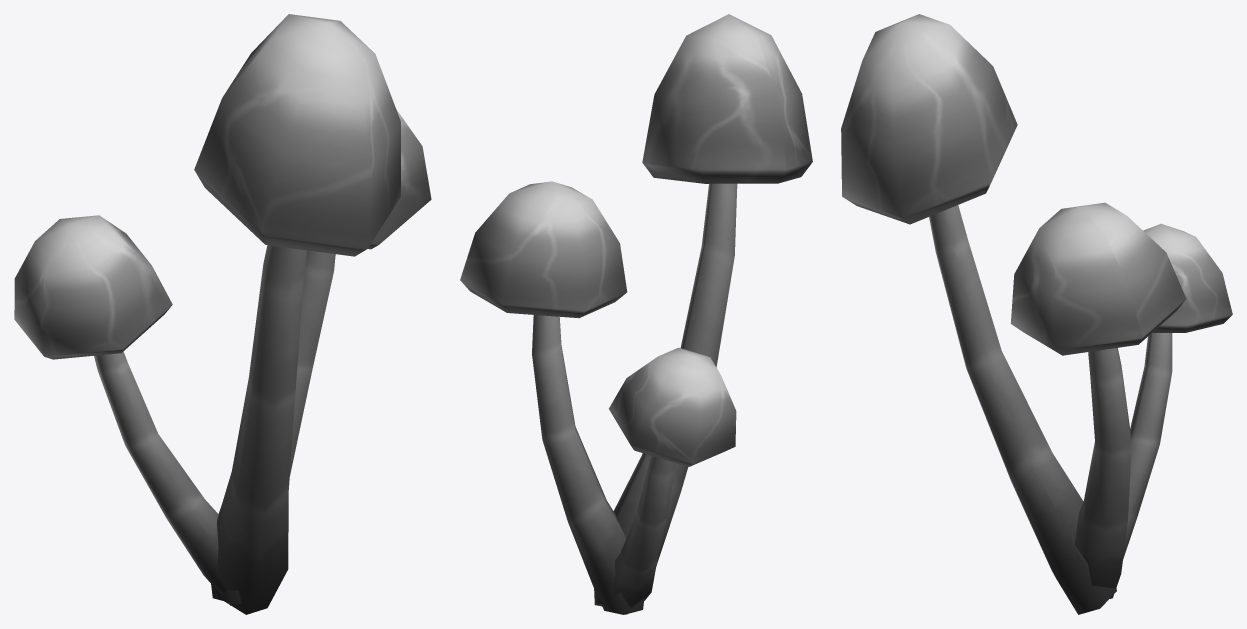
Rendered from cave mushroom clump.FBX.
3 views of the same model, side by side, from view 1: azimuth 30°, elevation 25°; view 2: azimuth 150°, elevation 25°; view 3: azimuth 270°, elevation 25° (orthographic). The views are drawn at different scales.
Visible parts, largest first — view 1: Object011; view 2: Object011; view 3: Object011.
Part boxes in pixels (x1,y1,x2,y2): Object011: [14, 14, 431, 614]; Object011: [460, 14, 812, 614]; Object011: [841, 14, 1232, 614].
Bounding box in the file's own units: 1.32 × 2.49 × 1.54.
